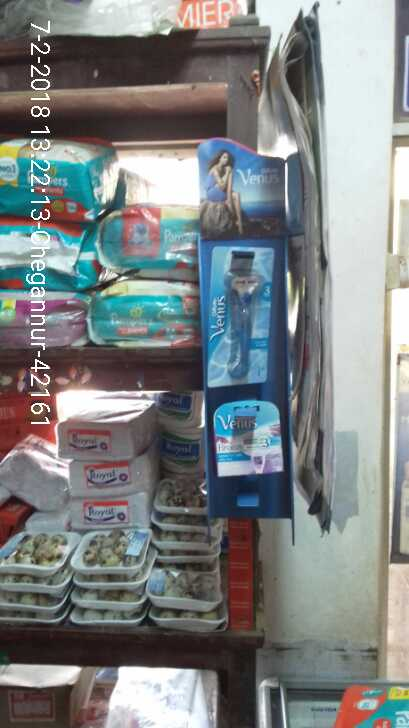beauty: (209, 243, 273, 386), (209, 401, 288, 476)
pharmacy: (95, 201, 201, 277), (87, 280, 203, 345)
